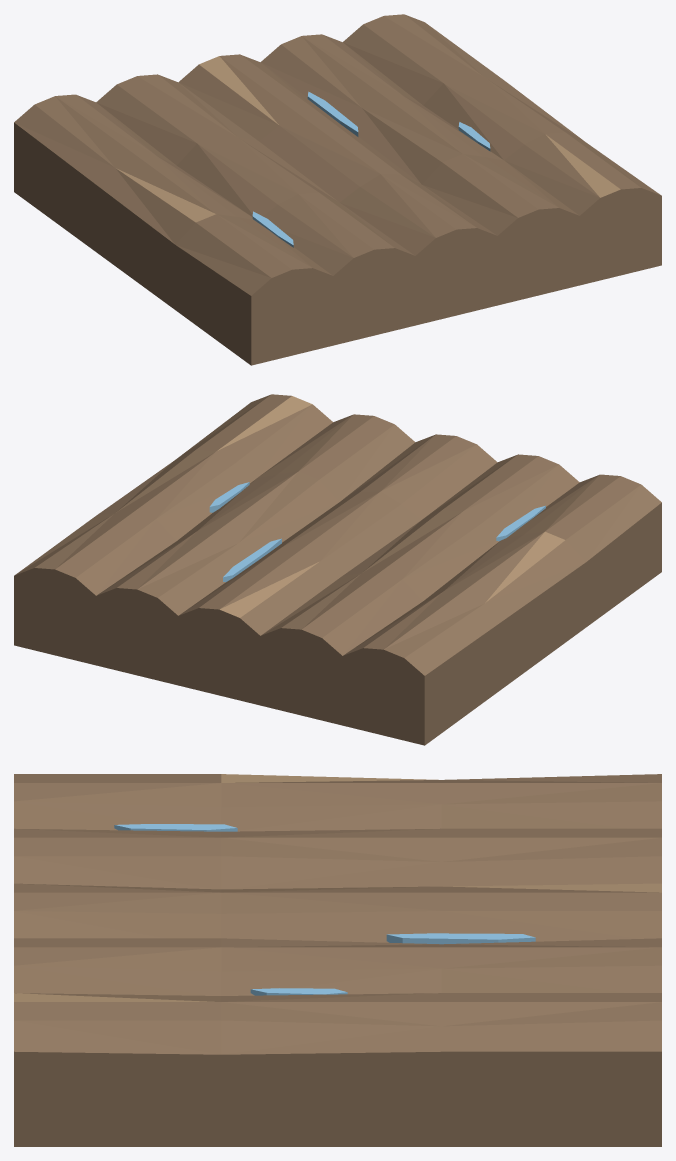
Rendered from tile_wet.glb.
The picture shows the model from 3 angles, top to bottom: view 1: azimuth 30°, elevation 25°; view 2: azimuth 150°, elevation 25°; view 3: azimuth 270°, elevation 25°; orthographic projection. The views are drawn at different scales.
Parts seen in each view (by area): view 1: tile_wet; view 2: tile_wet; view 3: tile_wet.
Part boxes in pixels (<box>): tile_wet: <box>14,14,661,365</box>; tile_wet: <box>14,394,661,745</box>; tile_wet: <box>14,774,661,1146</box>.
Bounding box in the file's own units: 1 × 0.2 × 1.
